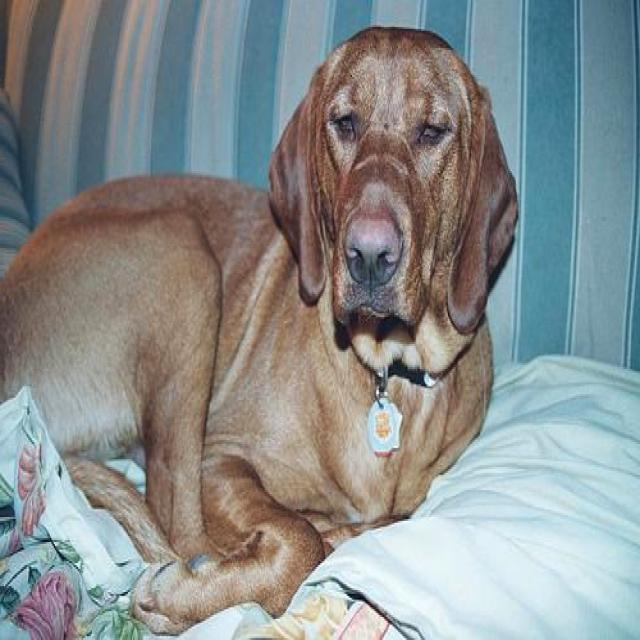vizsla: (1, 25, 521, 636)
